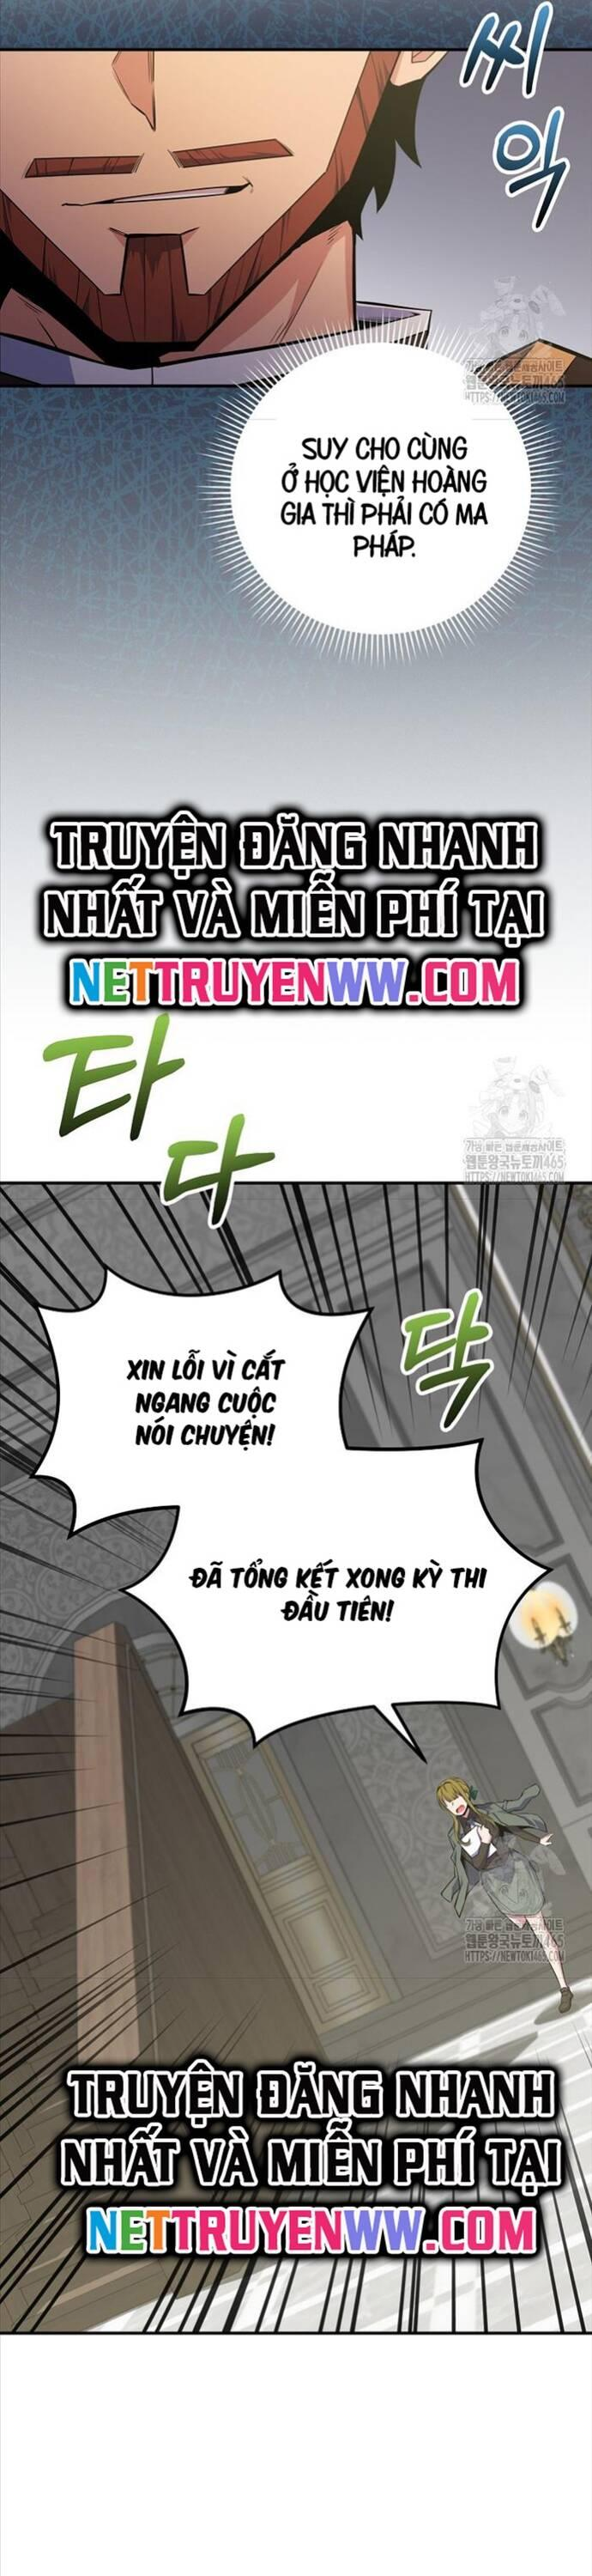quangcao: (51, 2052, 566, 2267), (39, 803, 558, 1017)
